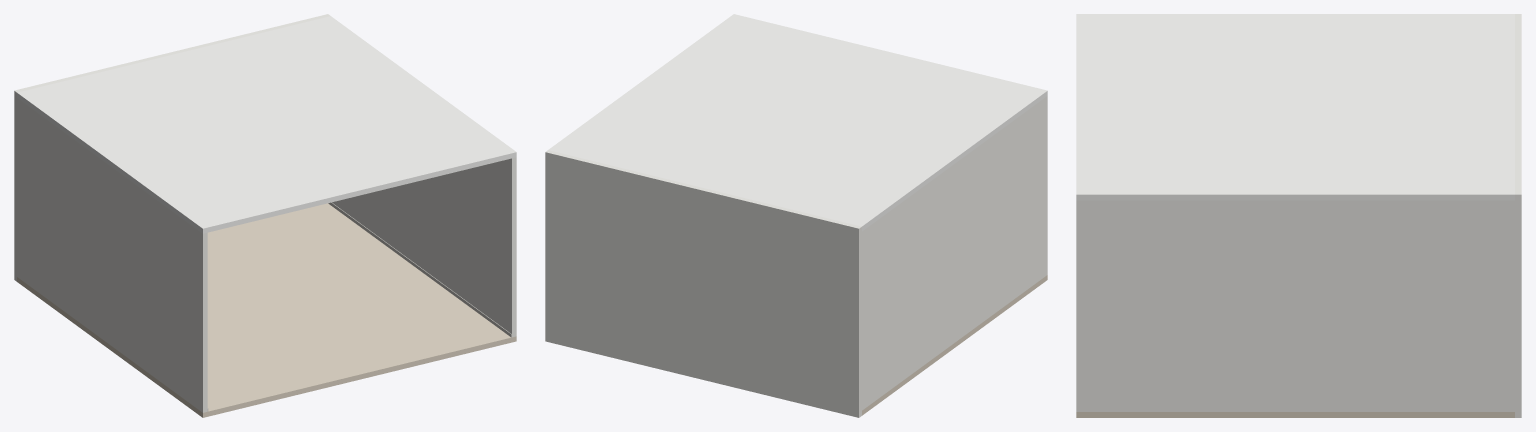
Rendered from room_shell_gallery.glb.
The picture shows the model from 3 angles, left to right: view 1: azimuth 30°, elevation 25°; view 2: azimuth 150°, elevation 25°; view 3: azimuth 270°, elevation 25°; orthographic projection. The views are drawn at different scales.
Parts seen in each view (by area): view 1: Ceiling.001, Floor.001, WallLeft.001, WallRight.001, WallBack.001, SkirtRight.001; view 2: WallBack.001, Ceiling.001, WallLeft.001, Floor.001; view 3: WallRight.001, Ceiling.001, WallBack.001, Floor.001.
Boxes of the visible parts, box(x1,y1,x2,y2) form: Ceiling.001: box(17, 16, 516, 233); Floor.001: box(17, 203, 516, 417); WallLeft.001: box(17, 98, 207, 412); WallRight.001: box(332, 157, 516, 337); WallBack.001: box(14, 14, 330, 281); SkirtRight.001: box(328, 202, 511, 337); WallBack.001: box(545, 150, 861, 417); Ceiling.001: box(548, 14, 1047, 231); WallLeft.001: box(862, 96, 1047, 410); Floor.001: box(862, 275, 1047, 415); WallRight.001: box(1076, 200, 1514, 411); Ceiling.001: box(1076, 14, 1514, 200); WallBack.001: box(1515, 14, 1521, 417); Floor.001: box(1076, 412, 1514, 417).
Bounding box in the file's own units: 16.1 × 9.27 × 16.77.
